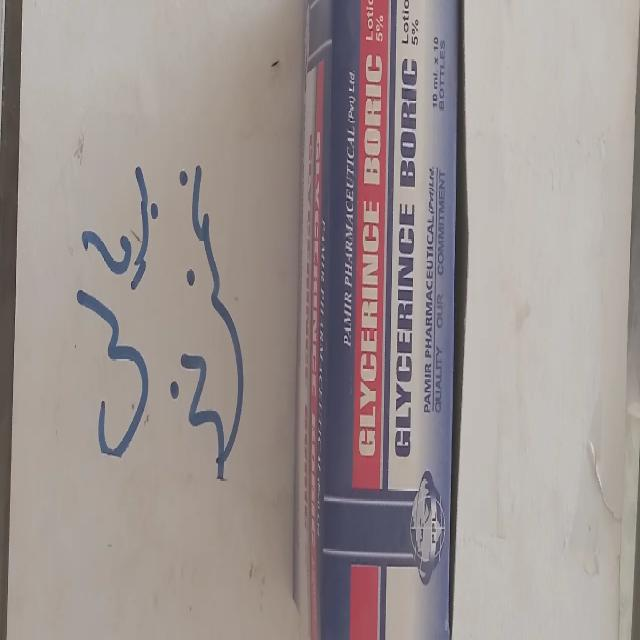drug-name: (354, 46, 387, 467)
